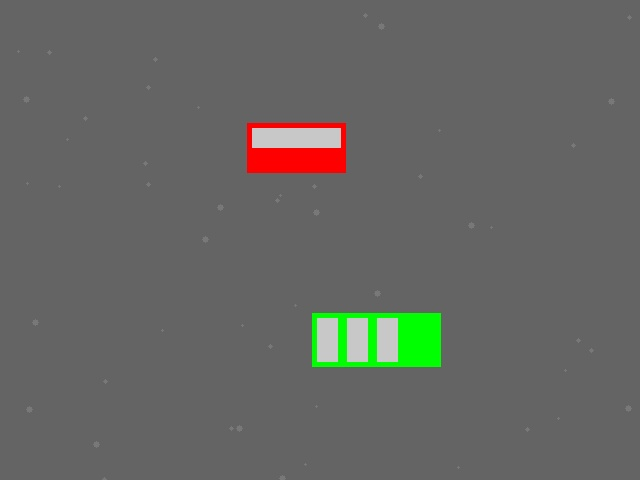bus: (312, 313, 440, 366)
car: (247, 123, 345, 172)
